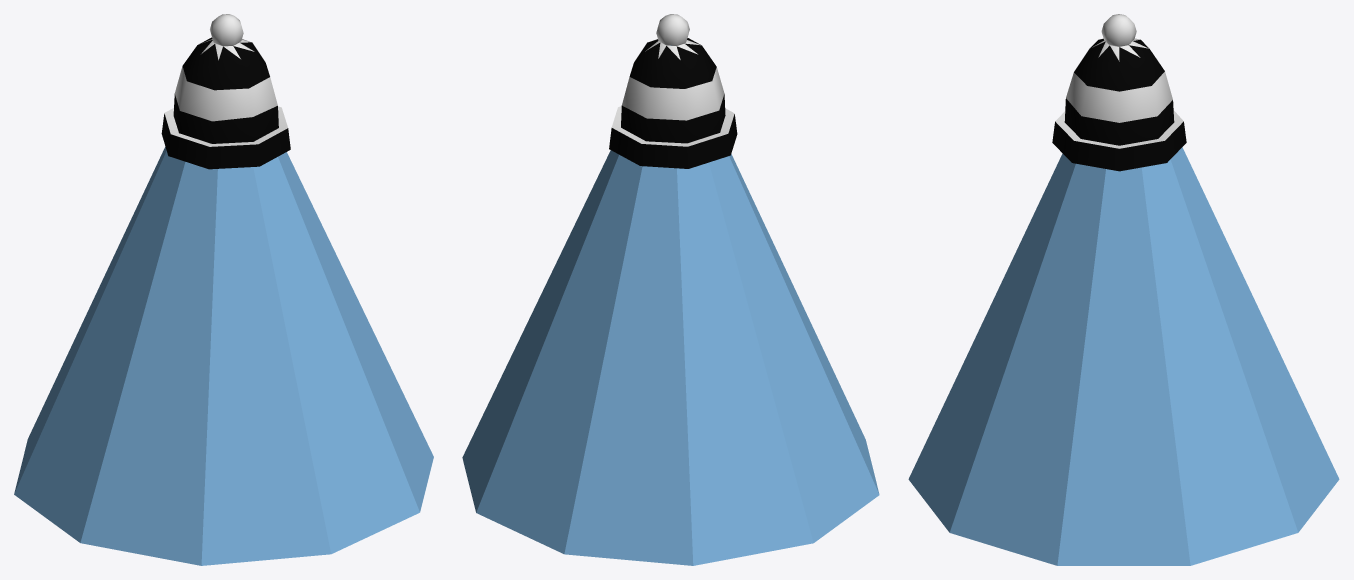
The model's file is Hat_Villager.fbx.
The picture shows the model from 3 angles, left to right: view 1: azimuth 30°, elevation 25°; view 2: azimuth 150°, elevation 25°; view 3: azimuth 270°, elevation 25°; orthographic projection.
Visible parts, largest first — view 1: Hat_Villager, Hat2; view 2: Hat_Villager, Hat2; view 3: Hat_Villager, Hat2.
Boxes of the visible parts, <box> form: Hat_Villager: <box>14,147,433,565</box>; Hat2: <box>161,14,290,169</box>; Hat_Villager: <box>462,45,879,565</box>; Hat2: <box>609,14,737,168</box>; Hat_Villager: <box>908,147,1339,565</box>; Hat2: <box>1052,14,1186,171</box>.
Size of the model in its own units: 5.8 by 7.24 by 6.1.
